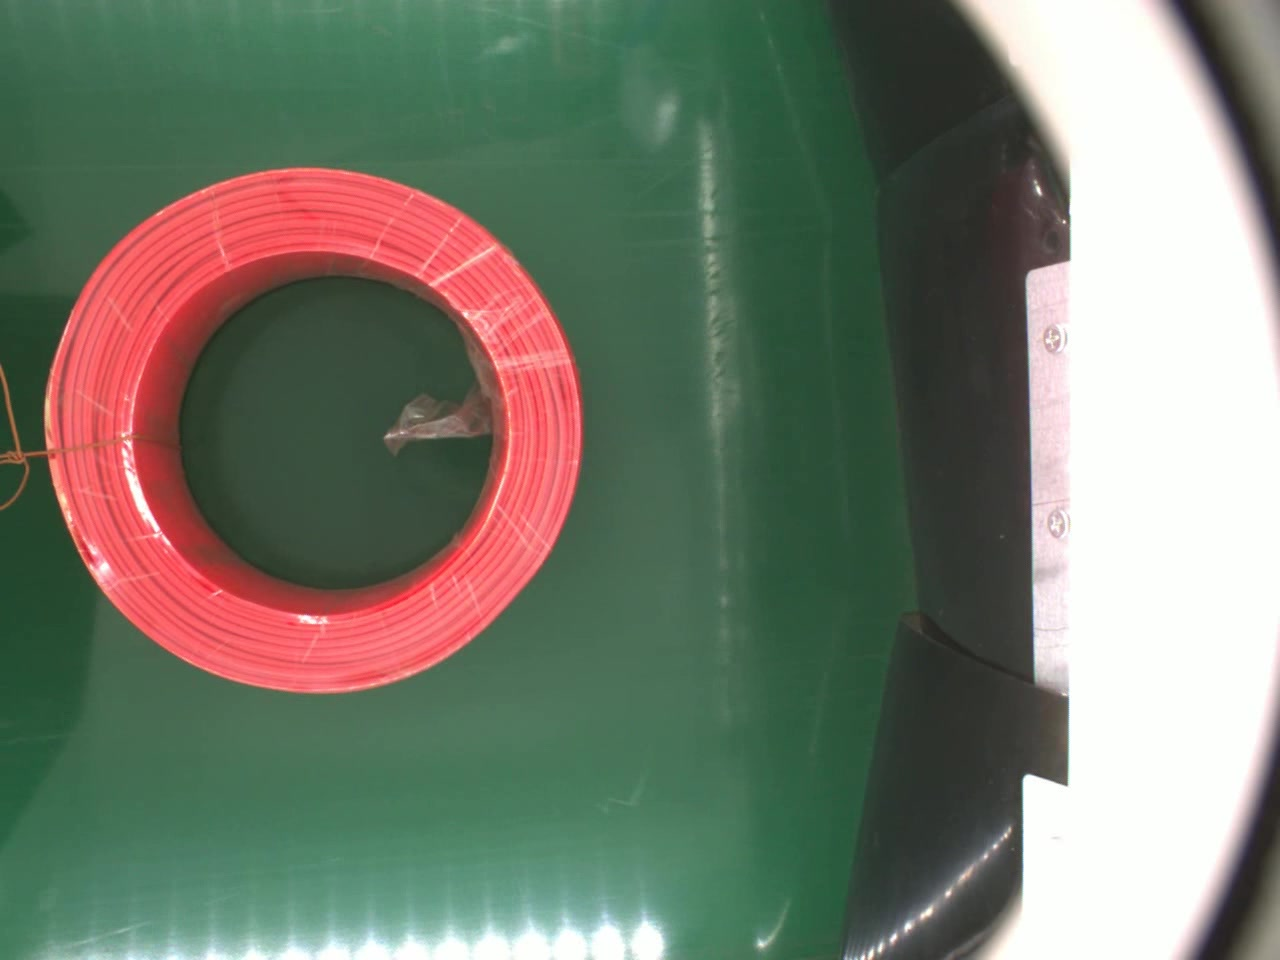red: (42, 162, 590, 703)
